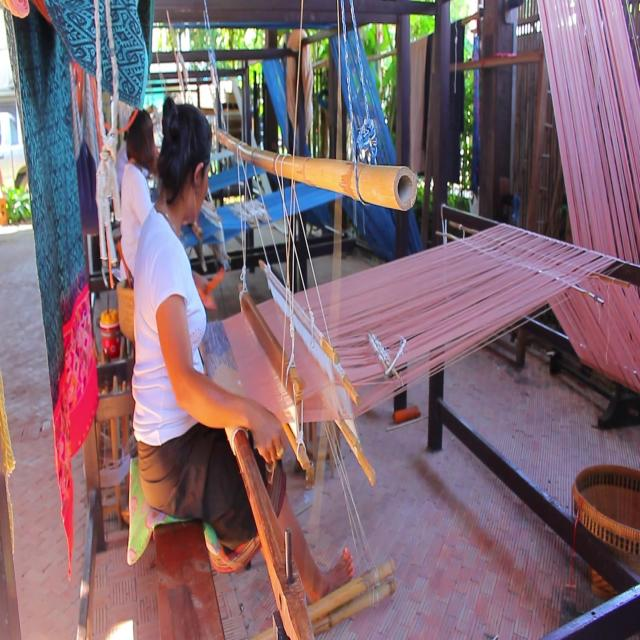not-gloved: (248, 402, 286, 470)
